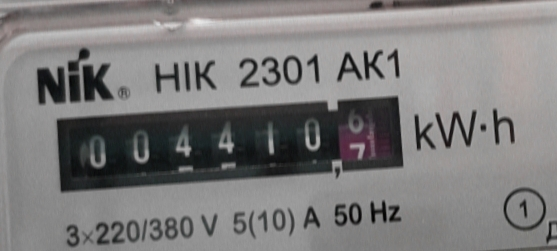0: (85, 130, 109, 169), (301, 114, 323, 152), (130, 125, 150, 164)
1: (261, 118, 278, 156)
4: (213, 116, 238, 156), (170, 119, 195, 158)
6: (347, 106, 366, 134)
7: (347, 139, 367, 160)
screen: (43, 79, 417, 205)
